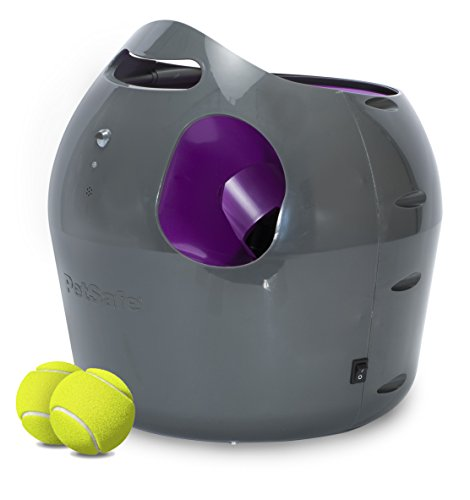tennis_ball: (49, 368, 135, 452), (17, 360, 80, 447)
